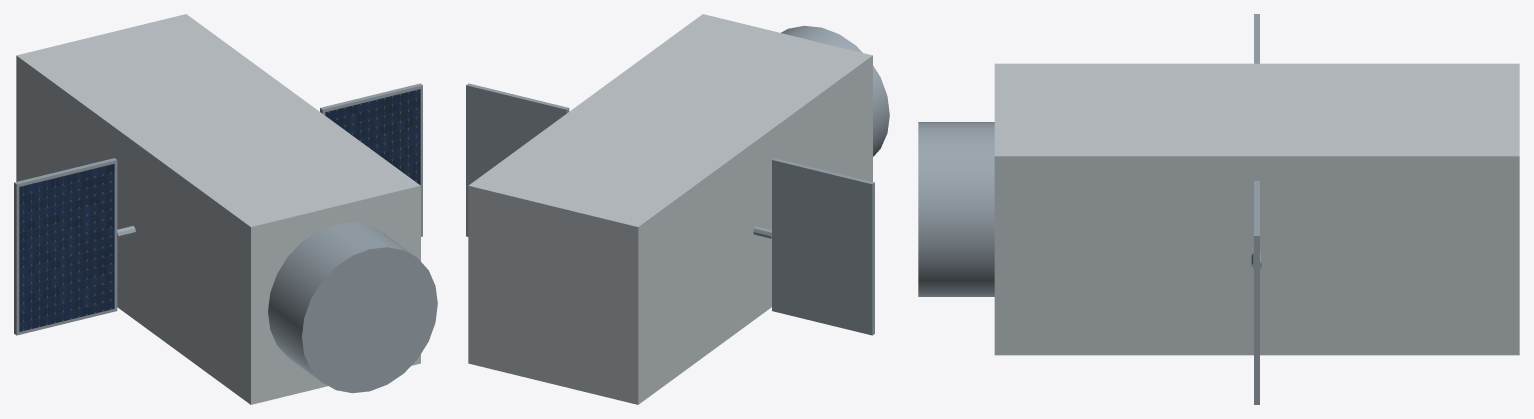
The model's file is ref-delta-star-19911.glb.
3 views of the same model, side by side, from view 1: azimuth 30°, elevation 25°; view 2: azimuth 150°, elevation 25°; view 3: azimuth 270°, elevation 25° (orthographic). The views are drawn at different scales.
Visible parts, largest first — view 1: Spacecraft body, Cylindrical section, Photovoltaic laminates (×2), Array frame (×2); view 2: Spacecraft body, Array frame (×2), Cylindrical section; view 3: Spacecraft body, Cylindrical section, Array frame.
Boxes of the visible parts, x1,y1,x2,y2 form: Spacecraft body: (16, 14, 420, 404); Cylindrical section: (268, 222, 437, 393); Photovoltaic laminates (×2): (19, 89, 420, 331); Array frame (×2): (14, 83, 422, 335); Spacecraft body: (468, 14, 872, 404); Array frame (×2): (466, 83, 874, 335); Cylindrical section: (781, 25, 889, 156); Spacecraft body: (994, 63, 1519, 355); Cylindrical section: (918, 122, 994, 296); Array frame: (1254, 181, 1259, 404).
Size of the model in its own units: 5.5 by 2.3 by 6.3.
3 materials, 1 textured.
